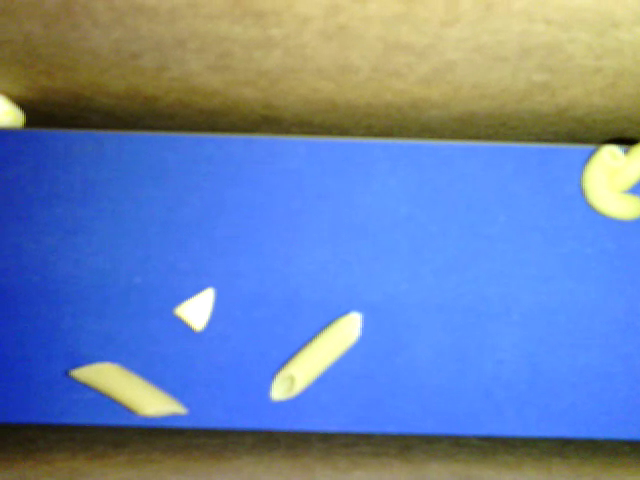elbow: (580, 143, 639, 219)
penne: (267, 309, 362, 402), (69, 360, 188, 417)
